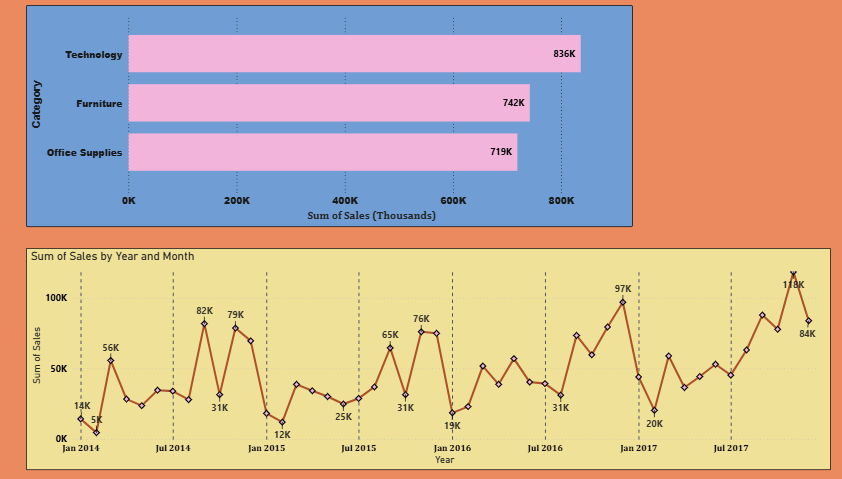

The page's visual inventory and layout, read from the dashboard file:
{"tool":"powerbi","page":{"name":"Bar & Line","canvas":[1280,720],"ordinal":0},"visuals":[{"type":"barChart","fields":{"Category":["Sample - Superstore.Category"],"Y":["Sum(Sample - Superstore.Sales)"]},"box":[60.6,16.4,888.3,324.5],"z":0},{"type":"lineChart","fields":{"Y":["Sum(Sample - Superstore.Sales)"],"Category":["Sample - Superstore.Order Date.Variation.Date Hierarchy.Year","Sample - Superstore.Order Date.Variation.Date Hierarchy.Month"]},"box":[60.6,372,1178.4,324.5],"z":1000}]}

Visuals, with their boxes in screenshot pixels (x1, y1, x2, y2), scaled from the page's 1280x720 canvas onto the 842x479 screenshot:
barChart - Sample - Superstore.Category x Sum(Sample - Superstore.Sales): (x1=40, y1=11, x2=624, y2=227)
lineChart - Sum(Sample - Superstore.Sales) x Sample - Superstore.Order Date.Variation.Date Hierarchy.Year: (x1=40, y1=247, x2=815, y2=463)
